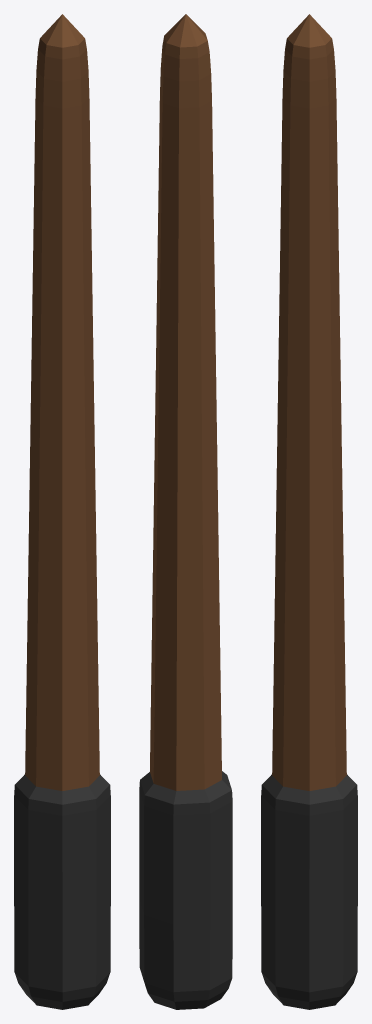
File: rod.fbx
The picture shows the model from 3 angles, left to right: view 1: azimuth 90°, elevation 25°; view 2: azimuth 210°, elevation 25°; view 3: azimuth 270°, elevation 25°; orthographic projection.
Parts seen in each view (by area): view 1: Cylinder; view 2: Cylinder; view 3: Cylinder.
Boxes of the visible parts, left/top/right/bottom form: Cylinder: left=14, top=14, right=110, bottom=1009; Cylinder: left=139, top=14, right=232, bottom=1009; Cylinder: left=261, top=14, right=357, bottom=1009.
Bounding box in the file's own units: 9.47 × 106 × 9.47.
